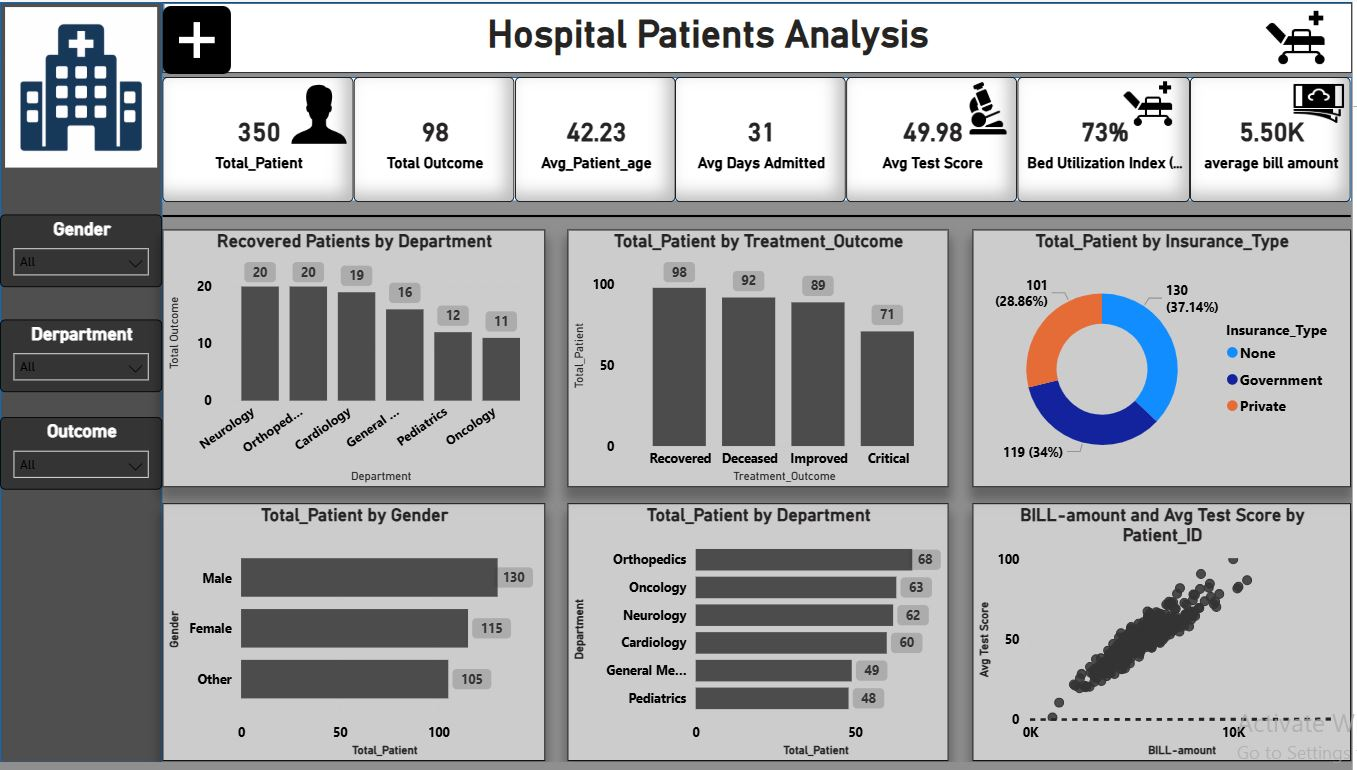

This screenshot's page, from the dashboard's own definition file:
{"tool":"powerbi","page":{"name":"Page 2","canvas":[1280,720],"ordinal":1},"visuals":[{"type":"image","box":[168.8,94.7,79.6,70],"z":0},{"type":"shape","box":[153.7,0,1126.6,67.2],"z":1000},{"type":"textbox","title":"Hospital Patients Analysis Dashboard","box":[367.8,9.6,605.1,46.7],"z":2000},{"type":"shape","box":[0,0,153.7,720.4],"z":3000},{"type":"shape","box":[153.7,71.4,1126.6,118],"z":3250},{"type":"card","fields":{"Values":["mesuare.Total_Patient"]},"box":[153.7,71.4,181.1,118],"z":3500},{"type":"card","fields":{"Values":["mesuare.Total Outcome"]},"box":[334.8,71.4,152.3,118],"z":6000},{"type":"card","fields":{"Values":["mesuare.Avg_Patient_age"]},"box":[487.1,71.4,152.3,118],"z":7000},{"type":"card","fields":{"Values":["mesuare.Avg Days Admitted"]},"box":[639.5,71.4,161.9,118],"z":8000},{"type":"card","fields":{"Values":["mesuare.Avg Test Score"]},"box":[801.4,71.4,161.9,118],"z":9000},{"type":"card","fields":{"Values":["mesuare.Bed Utilization Index (%)"]},"box":[963.3,71.4,163.3,118],"z":10000},{"type":"card","fields":{"Values":["mesuare.average bill amount"]},"box":[1126.6,71.4,152.3,118],"z":11000},{"type":"slicer","title":"Gender","fields":{"Values":["hospital_patient_records.Gender"]},"box":[0,201.7,153.7,68.6],"z":12000},{"type":"slicer","title":"Derpartment","fields":{"Values":["hospital_patient_records.Department"]},"box":[0,300.5,153.7,68.6],"z":13000},{"type":"slicer","title":"Outcome","fields":{"Values":["hospital_patient_records.Treatment_Outcome"]},"box":[0,392.5,153.7,68.6],"z":14000},{"type":"clusteredColumnChart","title":"Recovered Patients by Department","fields":{"Y":["mesuare.Total Outcome"],"Category":["hospital_patient_records.Department"]},"box":[153.7,215.4,362.3,244.3],"z":15000},{"type":"shape","box":[153.7,196.2,1125.2,12.3],"z":16000},{"type":"barChart","fields":{"Y":["mesuare.Total_Patient"],"Category":["hospital_patient_records.Gender"]},"box":[153.7,474.8,362.3,244.3],"z":17000},{"type":"clusteredColumnChart","fields":{"Category":["hospital_patient_records.Treatment_Outcome"],"Y":["mesuare.Total_Patient"]},"box":[537.9,215.4,360.9,244.3],"z":18000},{"type":"donutChart","fields":{"Y":["mesuare.Total_Patient"],"Category":["hospital_patient_records.Insurance_Type"]},"box":[920.8,215.4,358.1,244.3],"z":19000},{"type":"barChart","fields":{"Y":["mesuare.Total_Patient"],"Category":["hospital_patient_records.Department"]},"box":[537.9,474.8,360.9,244.3],"z":20000},{"type":"scatterChart","fields":{"X":["mesuare.BILL-amount"],"Y":["mesuare.Avg Test Score"],"Category":["hospital_patient_records.Patient_ID"]},"box":[920.8,474.8,358.1,244.3],"z":21000},{"type":"image","box":[0,0,153.7,161.9],"z":22000},{"type":"image","box":[1173.2,0,107,67.2],"z":22002},{"type":"image","box":[148.2,0,76.8,71.4],"z":22003},{"type":"image","box":[266.2,67.2,68.6,78.2],"z":22004},{"type":"image","box":[1218.5,67.2,61.7,53.5],"z":22005},{"type":"image","box":[898.8,71.4,74.1,59],"z":22006},{"type":"image","box":[1058,67.2,57.6,57.6],"z":22007}]}

Visuals, with their boxes in screenshot pixels (x1, y1, x2, y2), scaled from the page's 1280x720 canvas onto the 1357x770 screenshot:
image: <bbox>179, 101, 263, 176</bbox>
shape: <bbox>163, 0, 1356, 72</bbox>
"Hospital Patients Analysis Dashboard" textbox: <bbox>390, 10, 1031, 60</bbox>
shape: <bbox>0, 0, 163, 769</bbox>
shape: <bbox>163, 76, 1356, 203</bbox>
card - mesuare.Total_Patient: <bbox>163, 76, 355, 203</bbox>
card - mesuare.Total Outcome: <bbox>355, 76, 516, 203</bbox>
card - mesuare.Avg_Patient_age: <bbox>516, 76, 678, 203</bbox>
card - mesuare.Avg Days Admitted: <bbox>678, 76, 850, 203</bbox>
card - mesuare.Avg Test Score: <bbox>850, 76, 1021, 203</bbox>
card - mesuare.Bed Utilization Index (%): <bbox>1021, 76, 1194, 203</bbox>
card - mesuare.average bill amount: <bbox>1194, 76, 1356, 203</bbox>
"Gender" slicer: <bbox>0, 216, 163, 289</bbox>
"Derpartment" slicer: <bbox>0, 321, 163, 395</bbox>
"Outcome" slicer: <bbox>0, 420, 163, 493</bbox>
"Recovered Patients by Department" clusteredColumnChart: <bbox>163, 230, 547, 492</bbox>
shape: <bbox>163, 210, 1356, 223</bbox>
barChart - mesuare.Total_Patient x hospital_patient_records.Gender: <bbox>163, 508, 547, 769</bbox>
clusteredColumnChart - hospital_patient_records.Treatment_Outcome x mesuare.Total_Patient: <bbox>570, 230, 953, 492</bbox>
donutChart - mesuare.Total_Patient x hospital_patient_records.Insurance_Type: <bbox>976, 230, 1356, 492</bbox>
barChart - mesuare.Total_Patient x hospital_patient_records.Department: <bbox>570, 508, 953, 769</bbox>
scatterChart - mesuare.BILL-amount x mesuare.Avg Test Score: <bbox>976, 508, 1356, 769</bbox>
image: <bbox>0, 0, 163, 173</bbox>
image: <bbox>1244, 0, 1356, 72</bbox>
image: <bbox>157, 0, 239, 76</bbox>
image: <bbox>282, 72, 355, 155</bbox>
image: <bbox>1292, 72, 1356, 129</bbox>
image: <bbox>953, 76, 1031, 139</bbox>
image: <bbox>1122, 72, 1183, 133</bbox>
